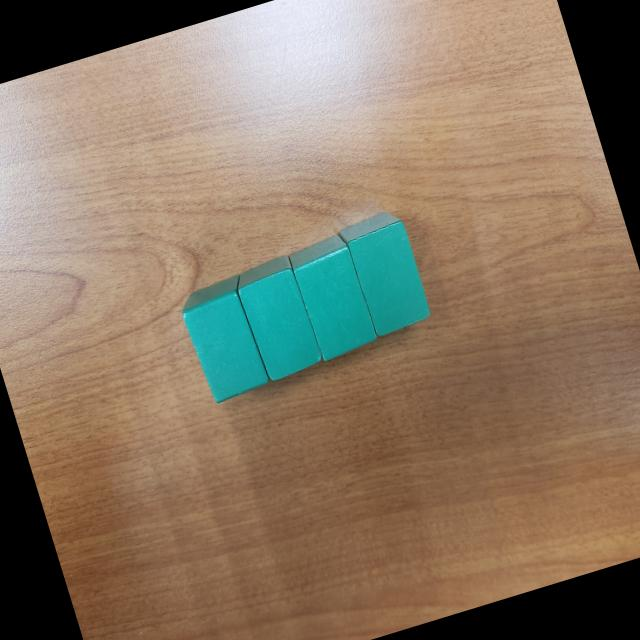green: (174, 273, 274, 406), (335, 206, 434, 340), (228, 250, 326, 384), (284, 231, 380, 364)
